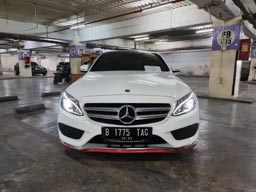plat: (101, 125, 153, 137)
